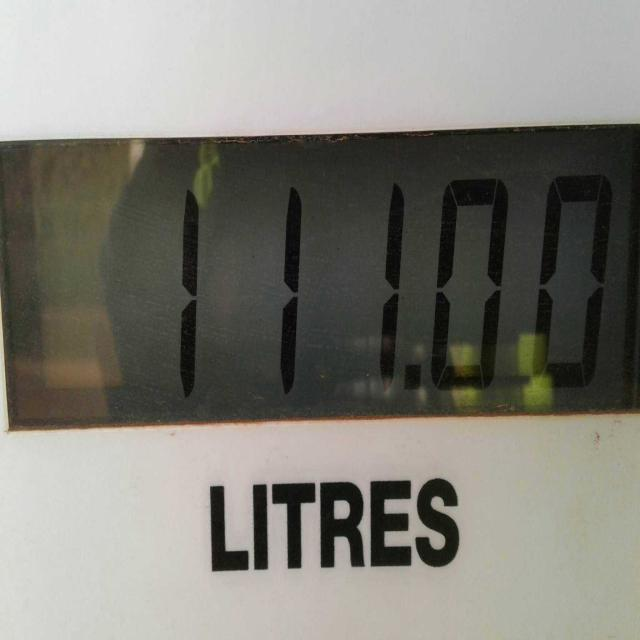.: (405, 375, 419, 397)
0: (435, 175, 504, 392), (542, 174, 600, 395)
1: (178, 194, 203, 406), (282, 185, 306, 395), (382, 189, 403, 393)
